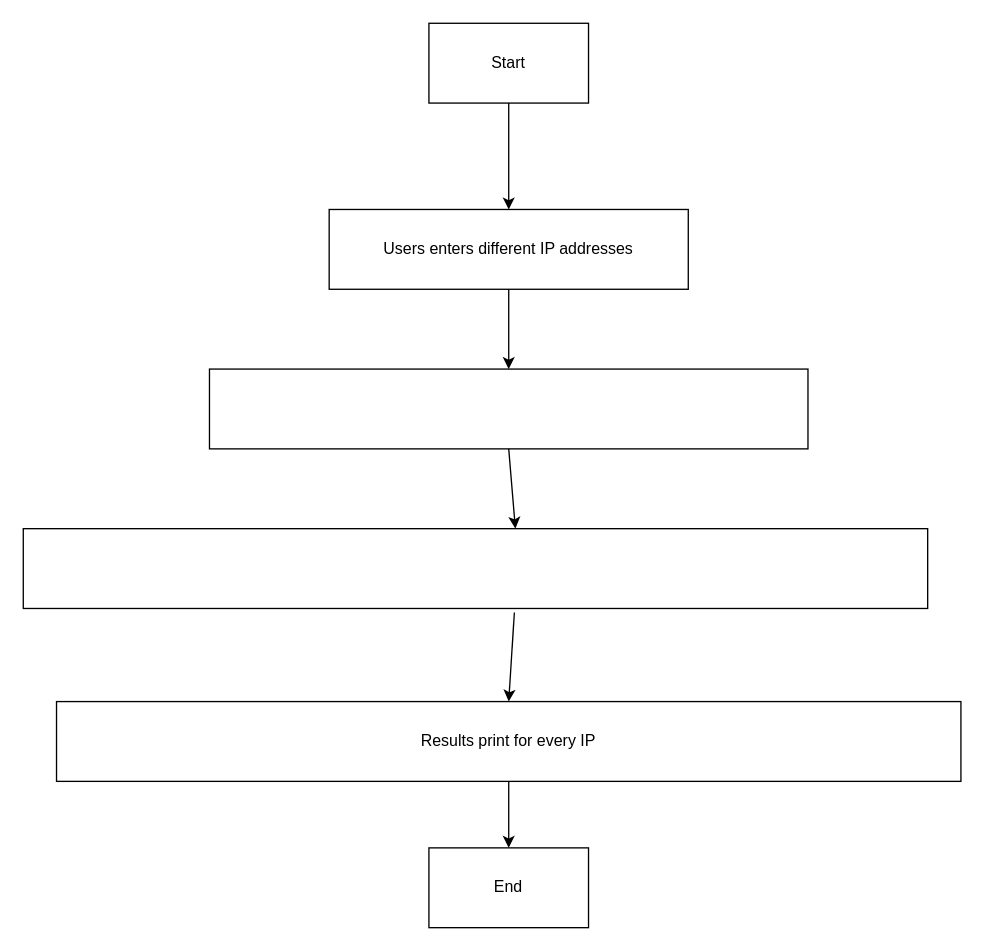
Some shapes in this 984 by 951 pixel diagram are drawn without their labels. Each missing label, with the centre of its shape:
Each PortScanner scans the port range: (475,567)
List comprehension creates a PortScanner for each IP: (508,408)
